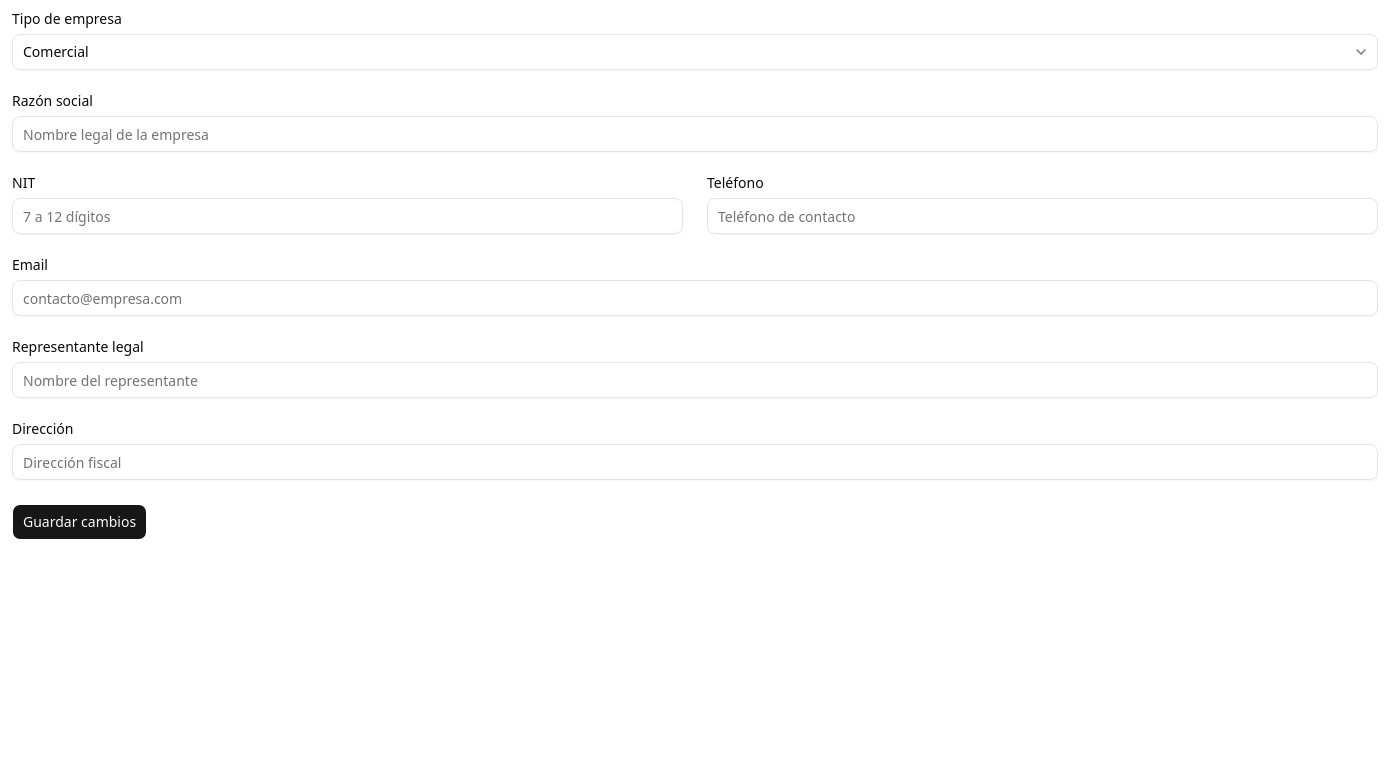
Test: EmpresaForm — Select tipoEmpresaPrincipal (D1) › el select muestra los 8 tipos de empresa disponibles
Note: Abre el select
Click the dropdown named "tipo de empresa".
click(56, 52)  # box [12, 34, 1378, 70]
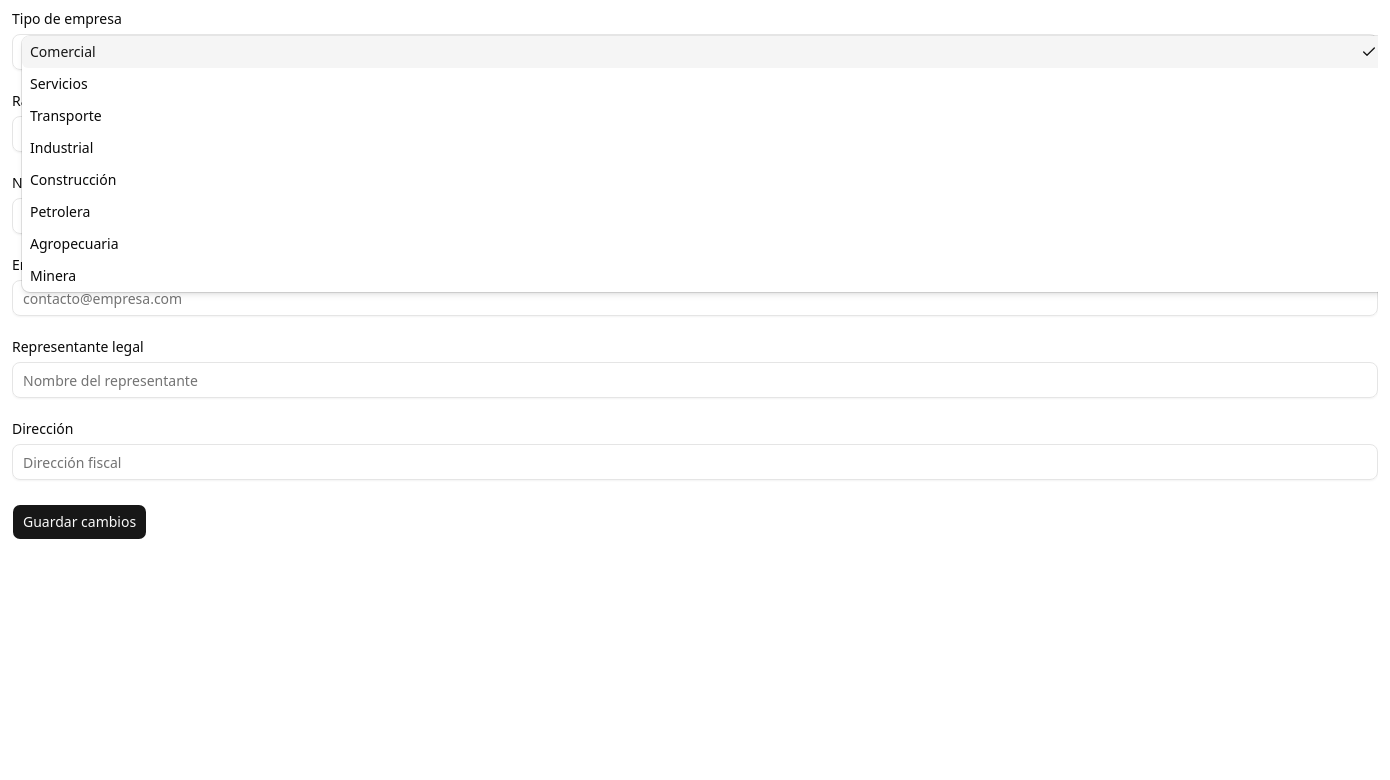
Check: the option "Servicios" is shown, box [30, 74, 88, 93]
Check: the option "Transporte" is shown, box [30, 106, 102, 125]
Check: the option "Industrial" is shown, box [30, 138, 93, 157]
